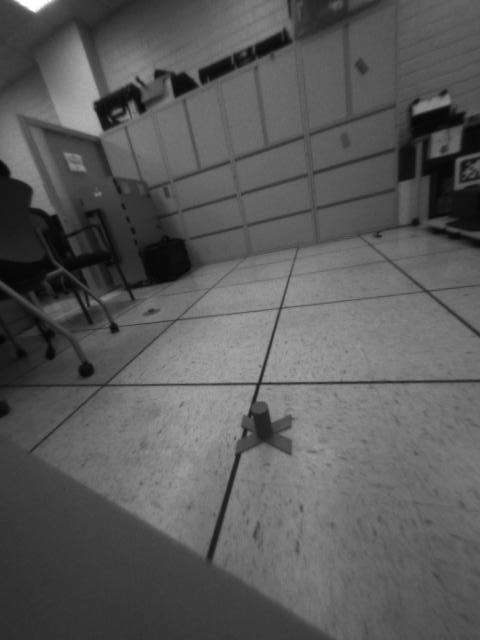X: (232, 399, 296, 456)
